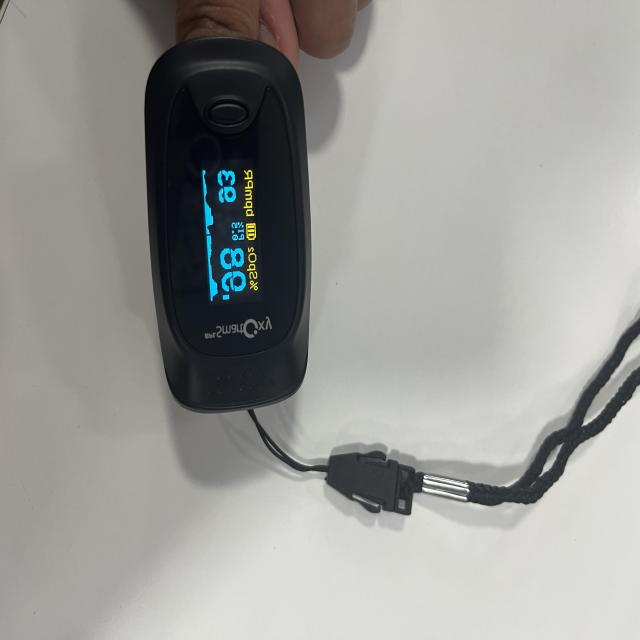spo2: (143, 37, 313, 416)
